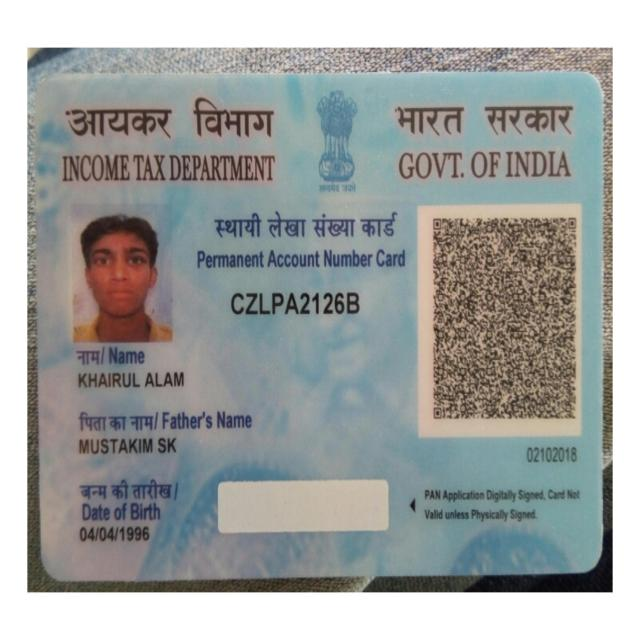pan_card: (34, 76, 594, 573)
